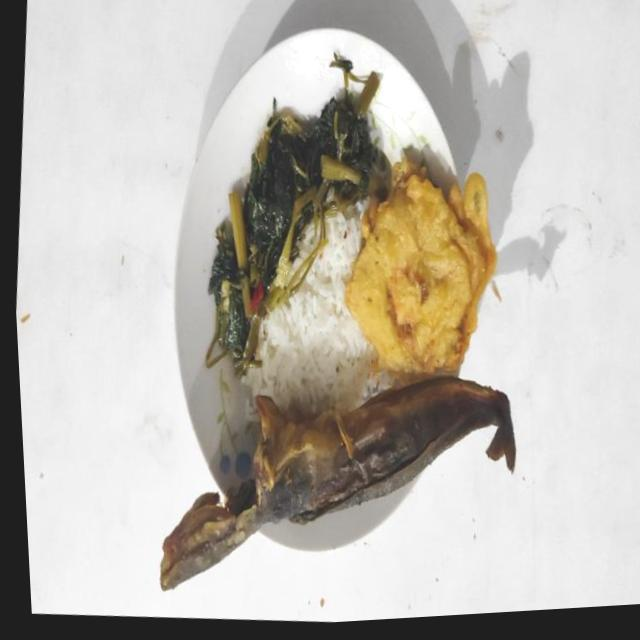nasi_putih: (242, 197, 393, 412)
tumis_kangkung: (205, 53, 390, 375)
